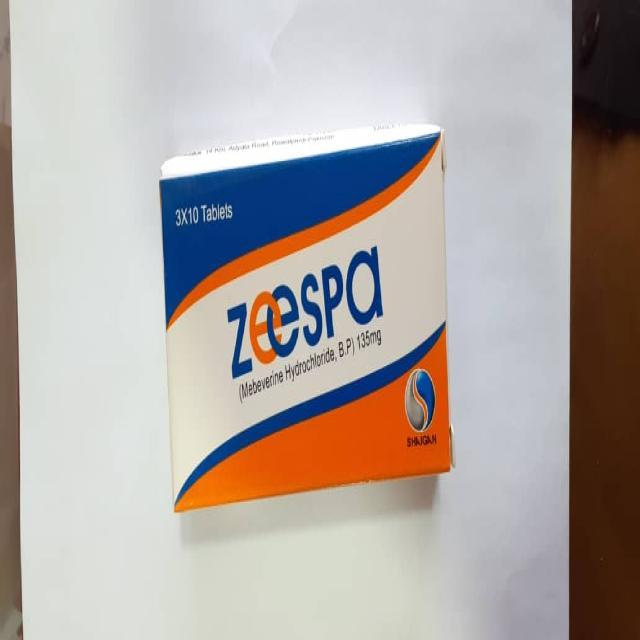drug-name: (222, 242, 386, 385)
